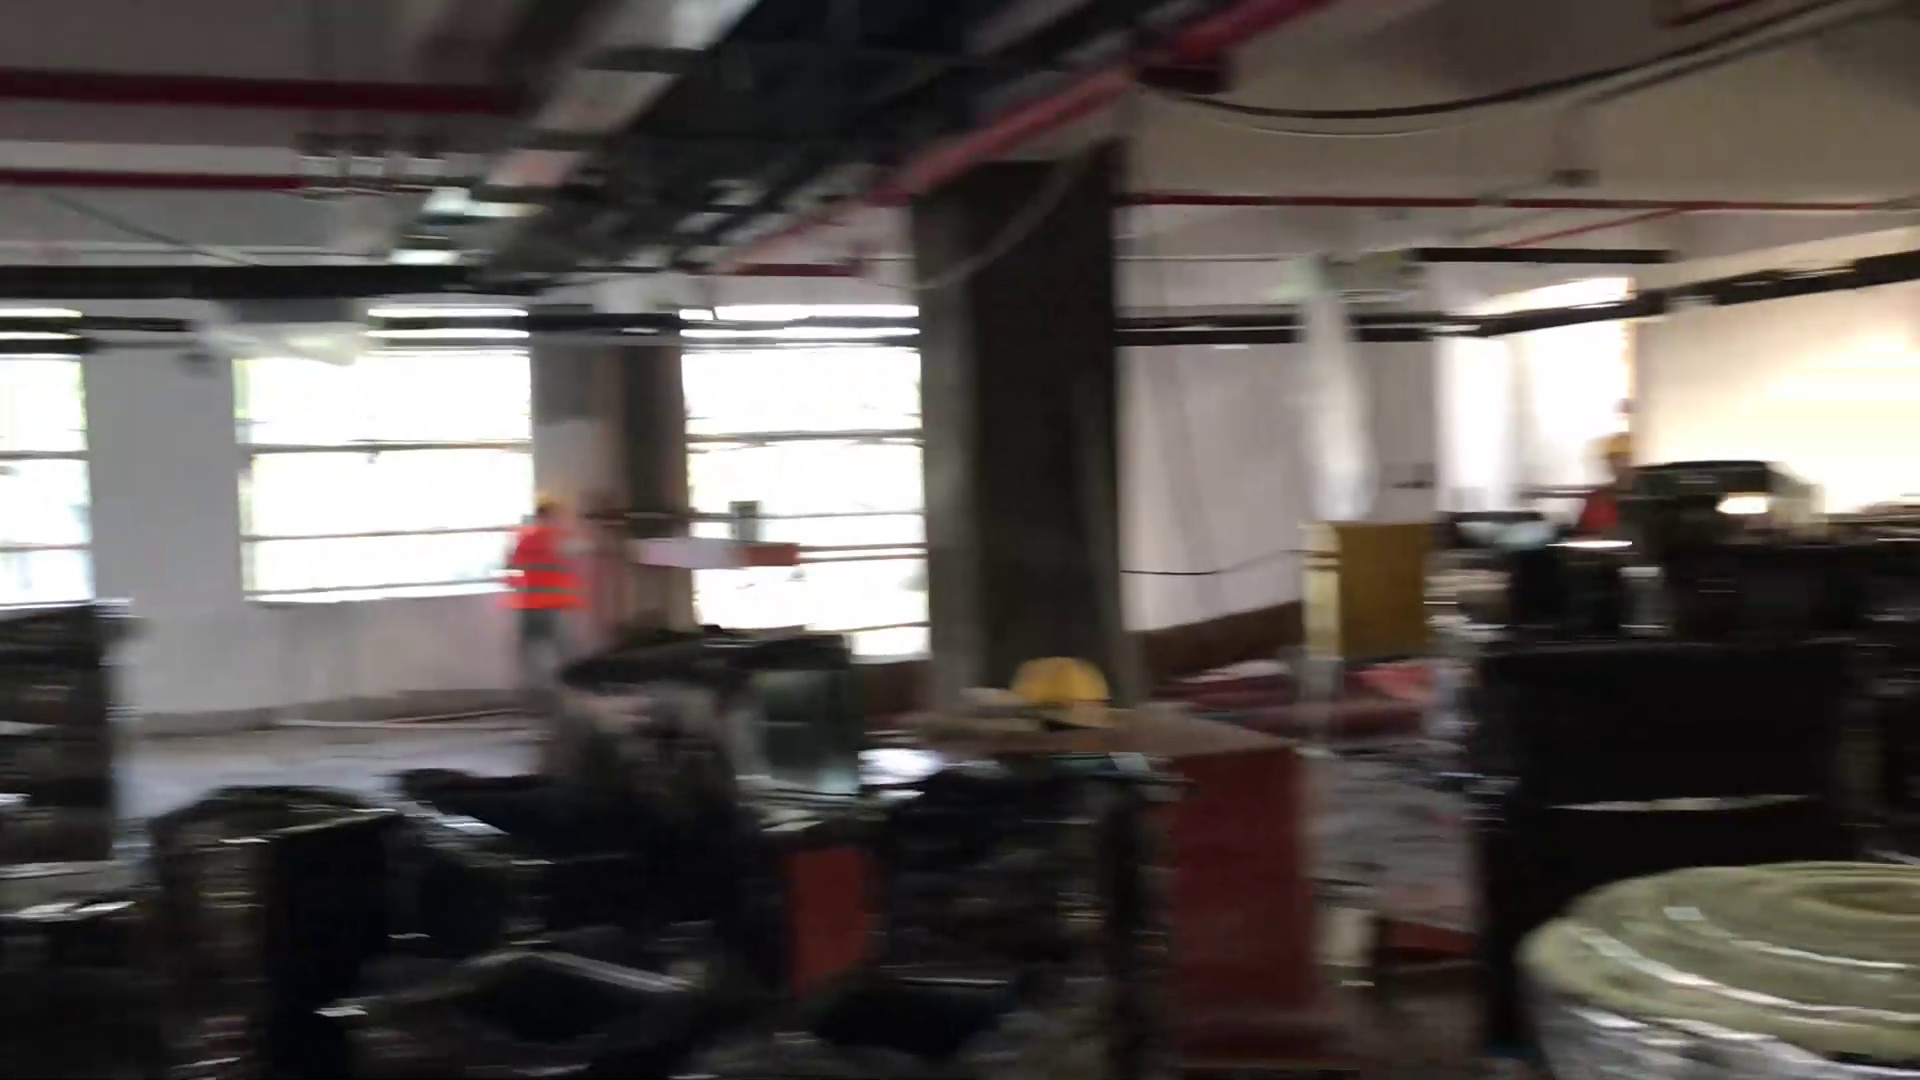ebox: (1294, 511, 1450, 743)
helmet: (1007, 647, 1107, 707), (1603, 432, 1637, 460), (527, 489, 562, 510)
person: (492, 482, 606, 678), (1574, 418, 1641, 559)
vest: (509, 523, 577, 610), (1585, 480, 1625, 524)
